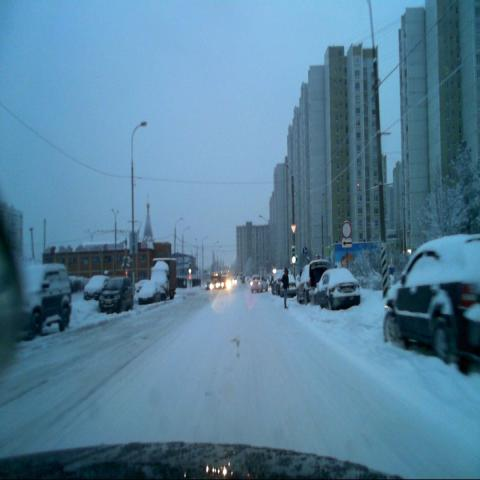3_2: (340, 219, 353, 238)
